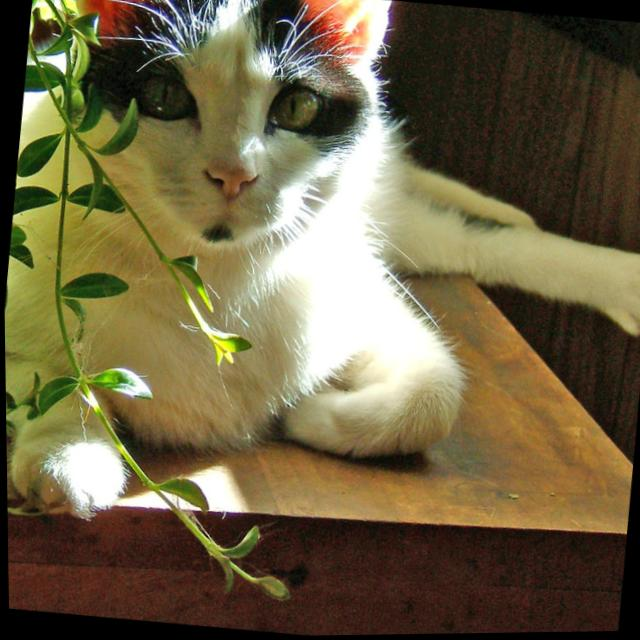animals: (69, 0, 384, 211)
